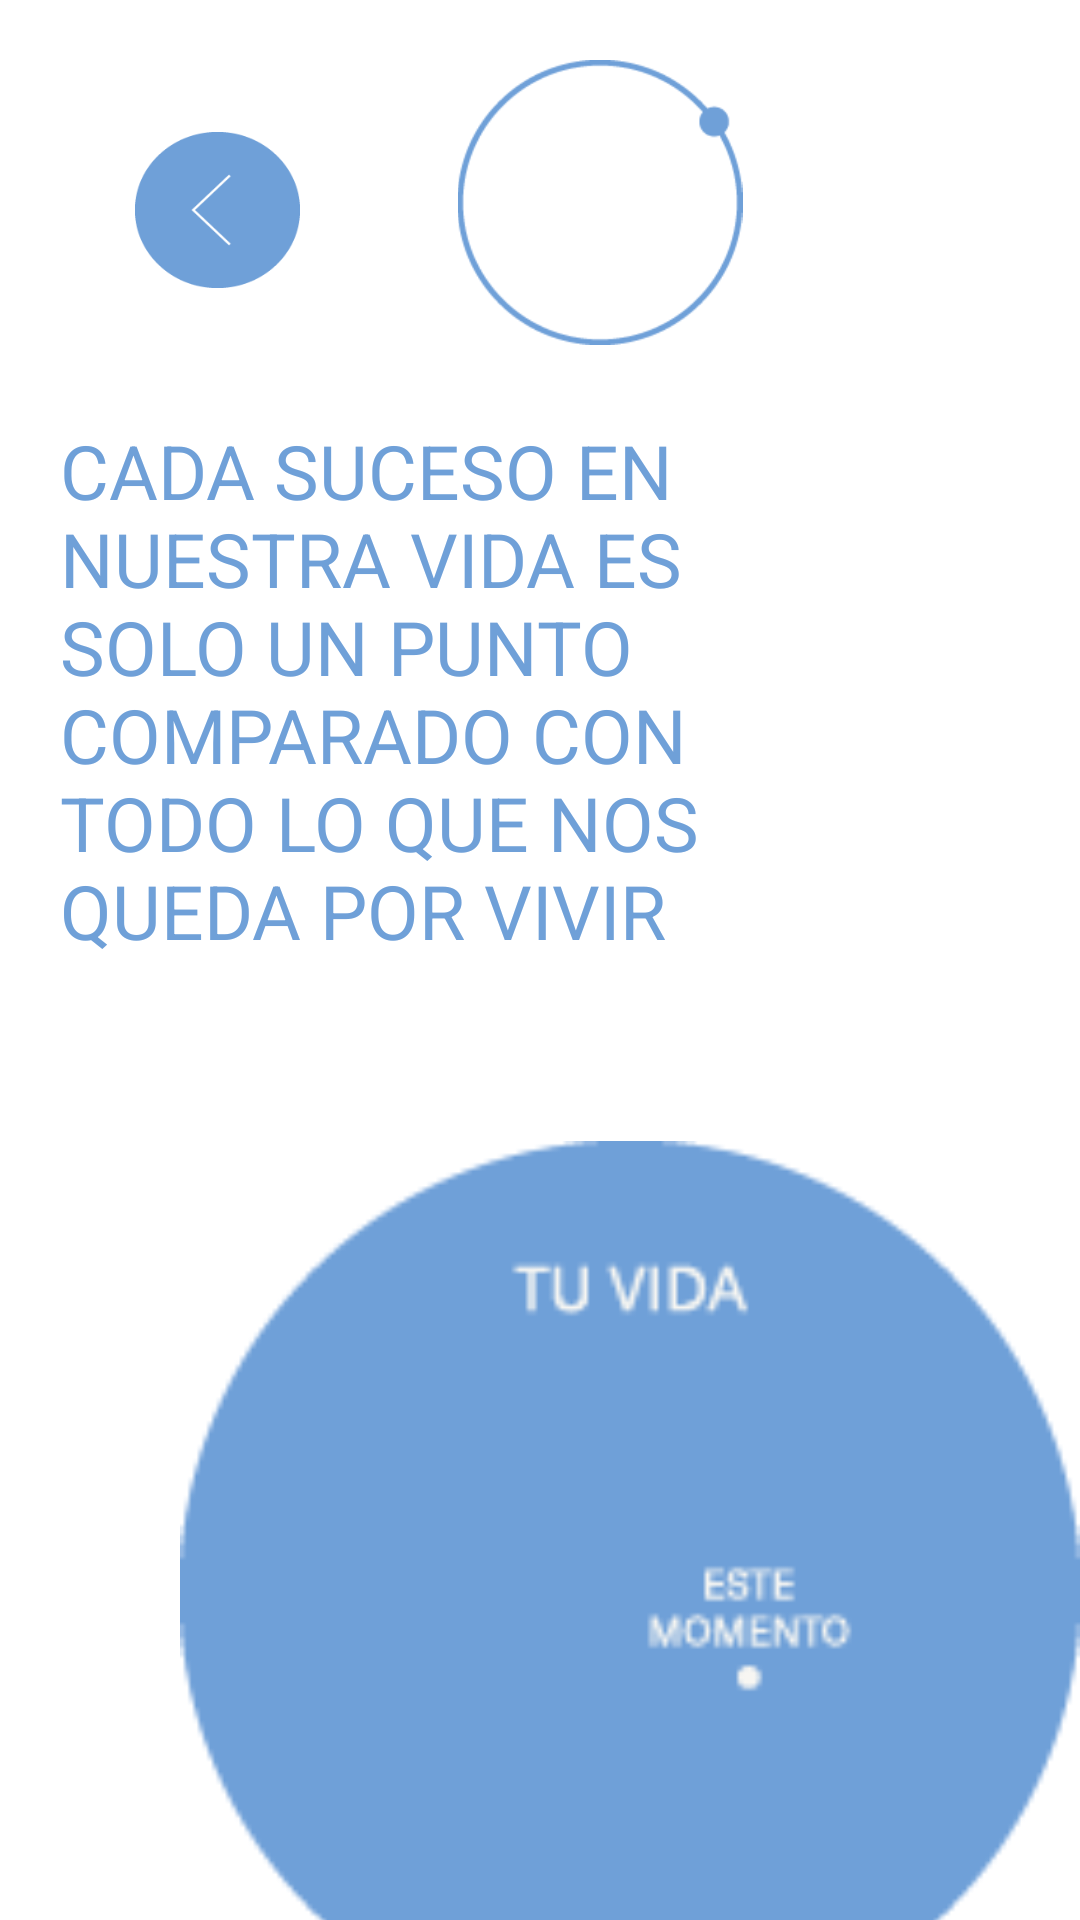

Icon bounding boxes for this 1080px×1920px phone screenshot, format (x1, y1, x2, y2):
regresar xxxdpi: (135, 132, 300, 288)
